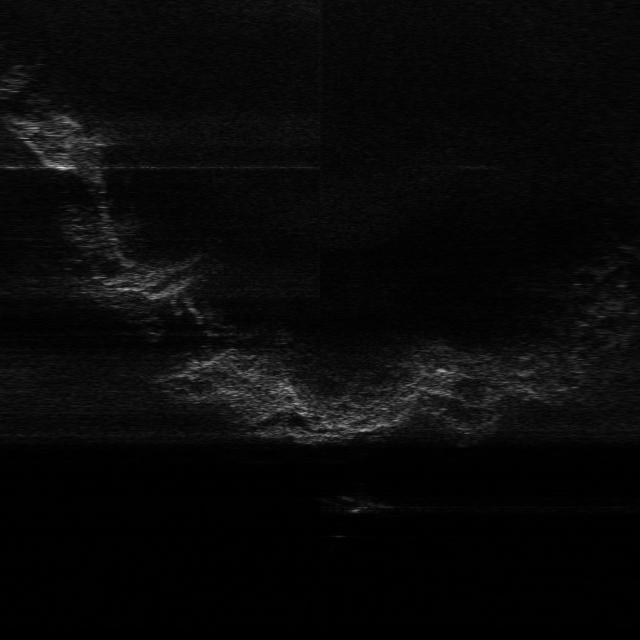plane: (336, 488, 396, 515)
